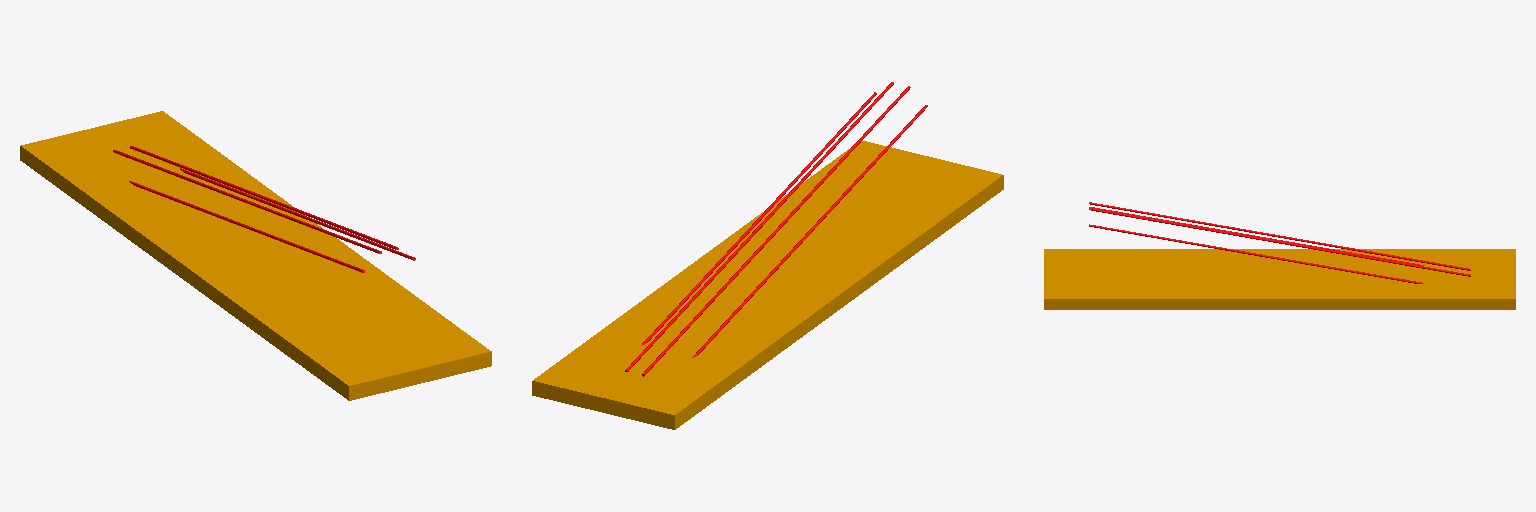
The robot description file, URDF, robot "violin":
<?xml version='1.0' encoding='utf-8'?>

<robot name="violin">

  <link name="base_link">
    <inertial>
      <mass value="3.7" />
      <origin rpy="0 0 0" xyz="0.0 -0.0 0" />
      <inertia ixx="0.02" ixy="0.0" ixz="0.0" iyy="0.02" iyz="0.0" izz="0.02" />
    </inertial>
    <visual>
      <origin rpy="0 0 0" xyz="0 0 0" />
      <geometry>
        <box size="0.1 0.4 0.01" />
      </geometry>
    </visual>
    <collision>
      <origin rpy="0 0 0" xyz="0 0 0" />
      <geometry>
        <box size="0.2 0.5 0.01" />
      </geometry>
    </collision>
  </link>

    <link name="string2">
    <inertial>
      <mass value="0.1" />
      <origin rpy="0 0 0" xyz="0.0 0.0 0.0" />
      <inertia ixx="0.001" ixy="0.0" ixz="0.0" iyy="0.001" iyz="0.0" izz="0.001" />
    </inertial>
    <visual>
      <origin rpy="0 0 0" xyz="0 0 0" />
      <geometry>
        <cylinder radius="0.001" length="0.33" />
      </geometry>
      <material name="material_red">
        <color rgba="1.0 0.1 0.1 1.0" />
      </material>
    </visual>
    <collision>
      <origin rpy="0 0 0" xyz="0 0 0" />
      <geometry>
        <cylinder radius="0.001" length="0.33" />
      </geometry>
    </collision>
    </link>

    <link name="string1">
    <inertial>
      <mass value="0.1" />
      <origin rpy="0 0 0" xyz="0.0 0.0 0.0" />
      <inertia ixx="0.001" ixy="0.0" ixz="0.0" iyy="0.001" iyz="0.0" izz="0.001" />
    </inertial>
    <visual>
      <origin rpy="0 0 0" xyz="0 0 0" />
      <geometry>
        <cylinder radius="0.001" length="0.33" />
      </geometry>
      <material name="material_red">
        <color rgba="1.0 0.1 0.1 1.0" />
      </material>
    </visual>
    <collision>
      <origin rpy="0 0 0" xyz="0 0 0" />
      <geometry>
        <cylinder radius="0.001" length="0.33" />
      </geometry>
    </collision>
    </link>

    <link name="string3">
    <inertial>
      <mass value="0.1" />
      <origin rpy="0 0 0" xyz="0.0 0.0 0.0" />
      <inertia ixx="0.001" ixy="0.0" ixz="0.0" iyy="0.001" iyz="0.0" izz="0.001" />
    </inertial>
    <visual>
      <origin rpy="0 0 0" xyz="0 0 0" />
      <geometry>
        <cylinder radius="0.001" length="0.33" />
      </geometry>
      <material name="material_red">
        <color rgba="1.0 0.1 0.1 1.0" />
      </material>
    </visual>
    <collision>
      <origin rpy="0 0 0" xyz="0 0 0" />
      <geometry>
        <cylinder radius="0.001" length="0.33" />
      </geometry>
    </collision>
    </link>

    <link name="string4">
    <inertial>
      <mass value="0.1" />
      <origin rpy="0 0 0" xyz="0.0 0.0 0.0" />
      <inertia ixx="0.001" ixy="0.0" ixz="0.0" iyy="0.001" iyz="0.0" izz="0.001" />
    </inertial>
    <visual>
      <origin rpy="0 0 0" xyz="0 0 0" />
      <geometry>
        <cylinder radius="0.001" length="0.33" />
      </geometry>
      <material name="material_red">
        <color rgba="1.0 0.1 0.1 1.0" />
      </material>
    </visual>
    <collision>
      <origin rpy="0 0 0" xyz="0 0 0" />
      <geometry>
        <cylinder radius="0.001" length="0.33" />
      </geometry>
    </collision>
    </link>
  
  <joint name="joint1" type="fixed">
    <parent link="base_link" />
    <child link="string2" />
    <origin rpy="1.38 0.0 0.0" xyz="-0.00585 0.0 0.0376" />
    <axis xyz="0 0 1" />
    <limit effort="123" lower="-2.7925" upper="2.7925" velocity="2.0944" />
    <calibration rising="0"/>
  </joint>

  <joint name="joint2" type="fixed">
    <parent link="base_link" />
    <child link="string1" />
    <origin rpy="1.38 0.0 0.0" xyz="-0.01785 0.0 0.0278" />
    <axis xyz="0 0 1" />
    <limit effort="123" lower="-2.7925" upper="2.7925" velocity="2.0944" />
    <calibration rising="0"/>
  </joint>

  <joint name="joint3" type="fixed">
    <parent link="base_link" />
    <child link="string3" />
    <origin rpy="1.38 0.0 0.0" xyz="0.00585 0.0 0.0376" />
    <axis xyz="0 0 1" />
    <limit effort="123" lower="-2.7925" upper="2.7925" velocity="2.0944" />
    <calibration rising="0"/>
  </joint>

  <joint name="joint4" type="fixed">
    <parent link="base_link" />
    <child link="string4" />
    <origin rpy="1.38 0.0 0.0" xyz="0.01785 0.0 0.0278" />
    <axis xyz="0 0 1" />
    <limit effort="123" lower="-2.7925" upper="2.7925" velocity="2.0944" />
    <calibration rising="0"/>
  </joint>
  
</robot>

--- Render facts (derived) ---
The picture shows the robot from 3 angles, left to right: view 1: azimuth 30°, elevation 25°; view 2: azimuth 150°, elevation 25°; view 3: azimuth 270°, elevation 25°; orthographic projection.
Model violin with 5 links and 4 joints (4 fixed), rooted at base_link, posed all joints at 0.
Visible links, largest first — view 1: base_link, string3, string2, string1, string4; view 2: base_link, string2, string3, string1, string4; view 3: base_link, string2, string3, string4.
Link boxes in pixels (x1=…): base_link: x1=20, y1=111, x2=491, y2=400; string3: x1=130, y1=146, x2=398, y2=249; string2: x1=113, y1=150, x2=381, y2=253; string1: x1=129, y1=181, x2=364, y2=272; string4: x1=180, y1=168, x2=415, y2=260; base_link: x1=532, y1=140, x2=1003, y2=429; string2: x1=642, y1=86, x2=910, y2=376; string3: x1=625, y1=82, x2=893, y2=371; string1: x1=692, y1=105, x2=927, y2=357; string4: x1=641, y1=92, x2=876, y2=345; base_link: x1=1044, y1=249, x2=1515, y2=309; string2: x1=1089, y1=202, x2=1470, y2=270; string3: x1=1089, y1=208, x2=1470, y2=276; string4: x1=1089, y1=224, x2=1423, y2=283.
Size in the robot's own frame: 0.1 by 0.4 by 0.0749 metres.
Geometry: primitives only (box / cylinder / sphere), no mesh files.
